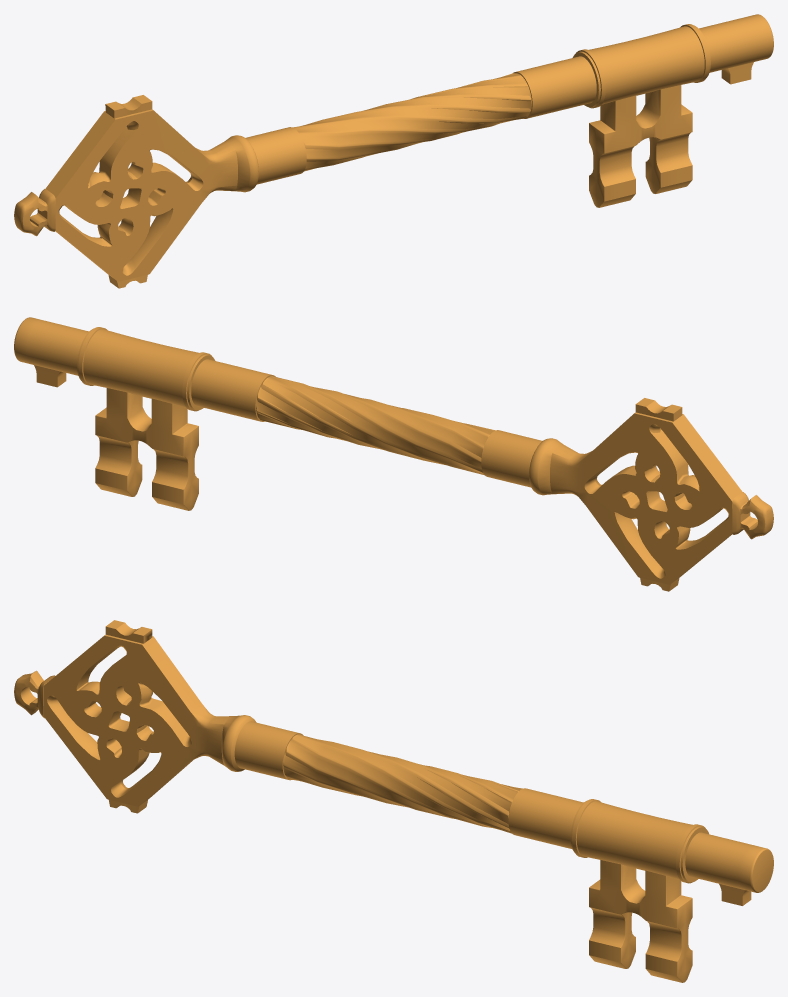
The model's file is Ornate_Key1.fbx.
3 views of the same model, one above another, from view 1: azimuth 30°, elevation 25°; view 2: azimuth 150°, elevation 25°; view 3: azimuth 330°, elevation 25° (orthographic).
Parts seen in each view (by area): view 1: Key; view 2: Key; view 3: Key.
Part boxes in pixels (box(x1,y1,x2,y2)): Key: box(14, 14, 773, 288); Key: box(14, 317, 773, 591); Key: box(14, 620, 773, 982).
Size of the model in its own units: 14.9 by 4.18 by 1.03.
